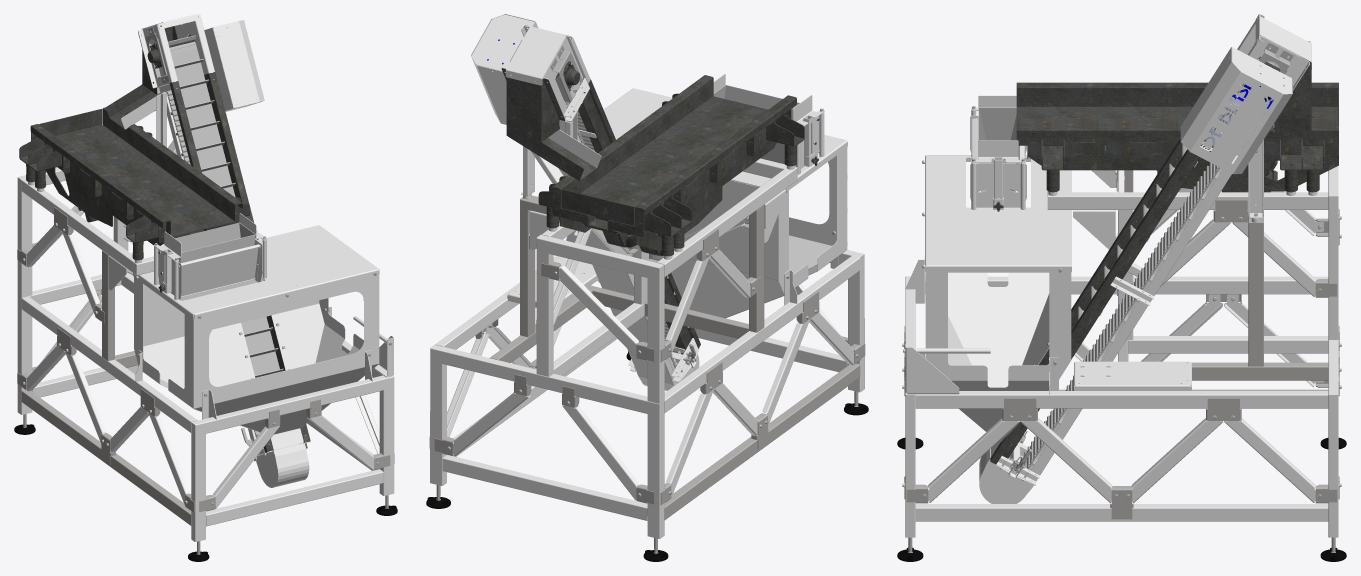
Rendered from sector_llenado_ar.glb.
3 renders of one model, left to right at view 1: azimuth 30°, elevation 25°; view 2: azimuth 150°, elevation 25°; view 3: azimuth 270°, elevation 25°, orthographic. The views are drawn at different scales.
Parts seen in each view (by area): view 1: Solid3, Sólido9.023, Sólido9.025, Sólido9.027, Solid1.021, Solid1.018, Solid1.008, Solid1.022, Sólido9.236, Sólido9.257, Solid3.003, Sólido9.026 (+35 smaller); view 2: Solid3, Sólido9.025, Sólido9.234, Solid1.021, Solid1.008, Solid1.024, Solid1.005, Solid3.003, Sólido9.027, Sólido9.026, Solid1, Sólido9.023 (+40 smaller); view 3: Sólido9.027, Solid3, Sólido9.026, Solid1.023, Sólido9.236, Sólido9.024, Solid1.009, Solid3.006, Sólido9.093, Sólido9.018, Sólido9.092, Solid1.013 (+38 smaller).
Boxes of the visible parts, bbox=[...] form: Solid3: bbox=[30, 107, 242, 236]; Sólido9.023: bbox=[193, 275, 379, 449]; Sólido9.025: bbox=[134, 278, 324, 388]; Sólido9.027: bbox=[133, 225, 379, 319]; Solid1.021: bbox=[21, 390, 191, 525]; Solid1.018: bbox=[191, 375, 394, 433]; Solid1.008: bbox=[21, 296, 197, 432]; Solid1.022: bbox=[206, 469, 383, 526]; Sólido9.236: bbox=[213, 20, 264, 107]; Sólido9.257: bbox=[181, 244, 261, 297]; Solid3.003: bbox=[46, 148, 164, 245]; Sólido9.026: bbox=[134, 277, 260, 432]; Solid3: bbox=[551, 75, 796, 225]; Sólido9.025: bbox=[567, 180, 783, 329]; Sólido9.234: bbox=[501, 68, 596, 181]; Solid1.021: bbox=[664, 363, 860, 519]; Solid1.008: bbox=[664, 255, 860, 412]; Solid1.024: bbox=[442, 455, 647, 520]; Solid1.005: bbox=[430, 344, 659, 413]; Solid3.003: bbox=[635, 127, 776, 251]; Sólido9.027: bbox=[604, 88, 847, 191]; Sólido9.026: bbox=[689, 148, 847, 331]; Solid1: bbox=[657, 167, 797, 276]; Sólido9.023: bbox=[789, 152, 847, 274]; Sólido9.027: bbox=[925, 155, 1071, 272]; Solid3: bbox=[1016, 82, 1338, 145]; Sólido9.026: bbox=[948, 272, 1049, 386]; Solid1.023: bbox=[915, 504, 1328, 521]; Sólido9.236: bbox=[1180, 47, 1292, 174]; Sólido9.024: bbox=[925, 271, 1071, 443]; Solid1.009: bbox=[915, 391, 1328, 408]; Solid3.006: bbox=[1028, 137, 1338, 191]; Sólido9.093: bbox=[990, 141, 1205, 464]; Sólido9.018: bbox=[1074, 361, 1191, 390]; Sólido9.092: bbox=[1031, 169, 1231, 475]; Solid1.013: bbox=[1128, 336, 1328, 353].
Size of the model in its own units: 1.12 by 2.09 by 1.73.
Materials: 50 (19 with a texture image).
